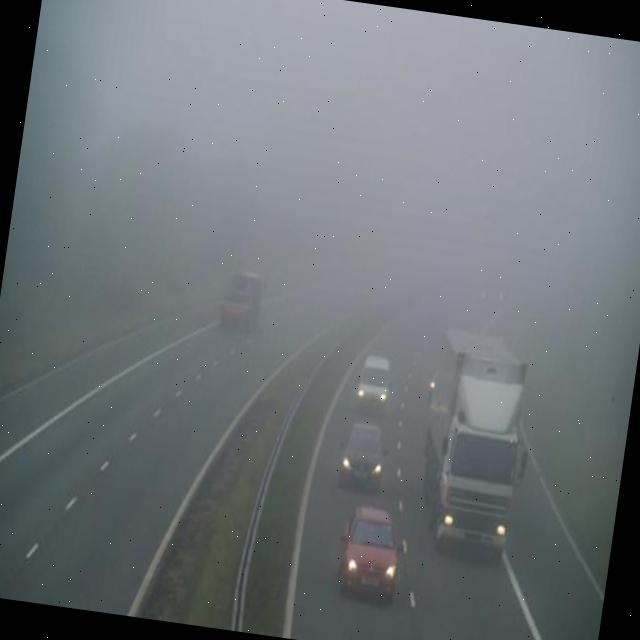bus: (410, 320, 545, 568)
car: (333, 506, 408, 607), (336, 420, 388, 495), (354, 352, 394, 420)
truck: (218, 264, 264, 332)
